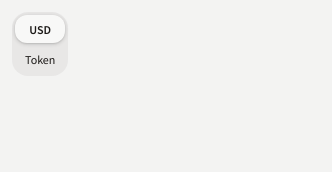
Test case: SegmentedToggle (vertical) › clicking an option fires onChange and updates aria-checked
Click the radio button labelled "Token" at coordinates (40, 59), box [15,45,65,73]
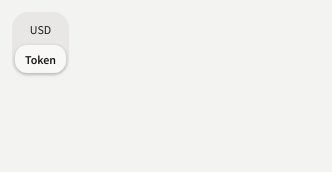
Expected: the radio button labelled "Token" is checked, [15,45,66,73]
Expected: the radio button labelled "USD" is not checked, [15,15,66,43]
